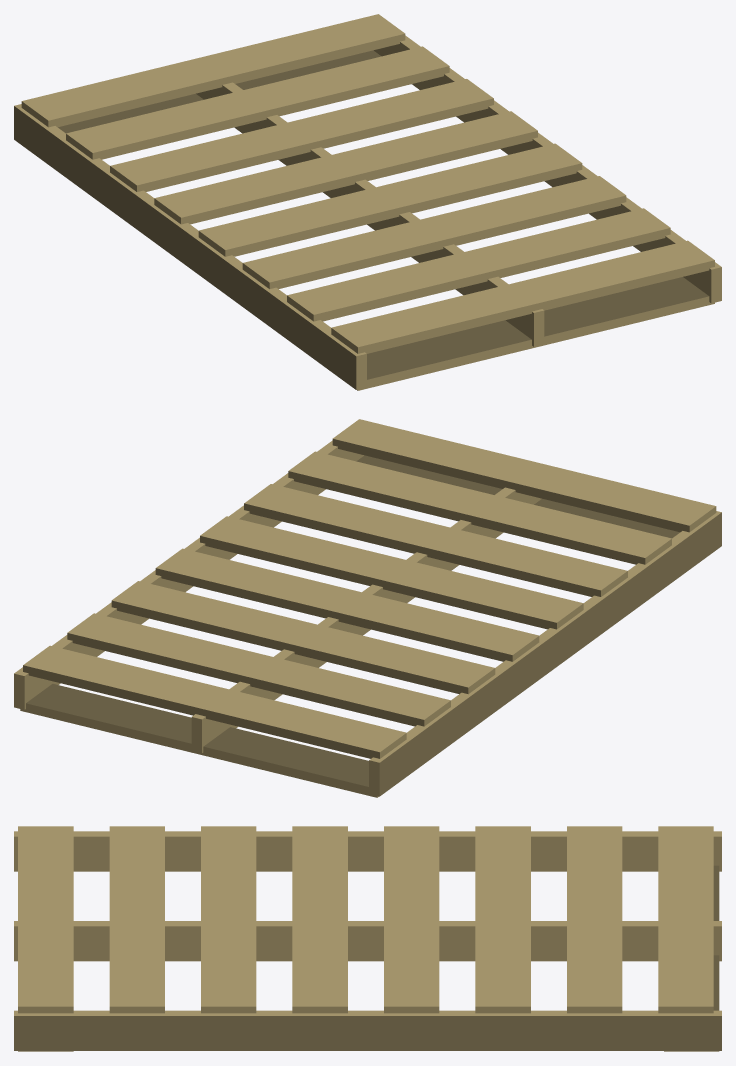
The model's file is Palette.glb.
3 renders of one model, top to bottom at view 1: azimuth 30°, elevation 25°; view 2: azimuth 150°, elevation 25°; view 3: azimuth 270°, elevation 25°, orthographic. The views are drawn at different scales.
Visible parts, largest first — view 1: Palette; view 2: Palette; view 3: Palette.
Part boxes in pixels (x1,y1,x2,y2): Palette: [14, 14, 721, 390]; Palette: [14, 419, 721, 797]; Palette: [14, 826, 721, 1051].
Size of the model in its own units: 2.44 by 0.2786 by 3.96.
Materials: 1 (1 with a texture image).
